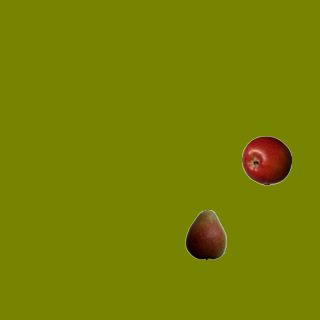Apple Braeburn: (241, 135, 291, 185)
Pear Forelle: (180, 209, 230, 259)
